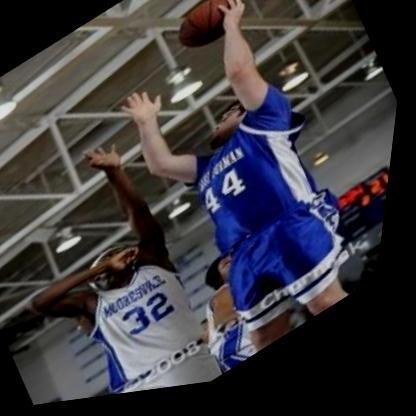basketball: (163, 0, 259, 69)
